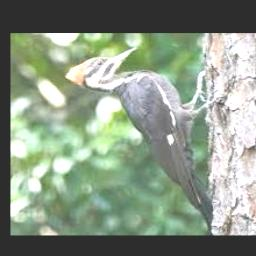Woodpecker: (64, 47, 215, 233)
